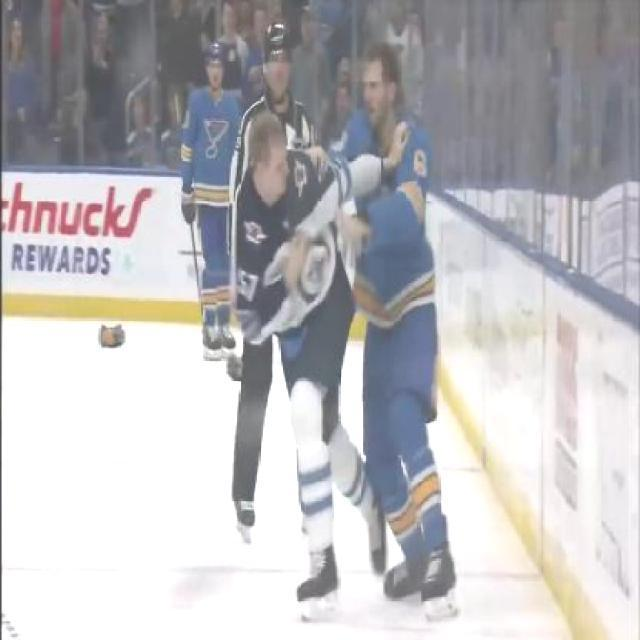fight: (232, 47, 462, 626)
non-fight: (180, 41, 245, 377)
